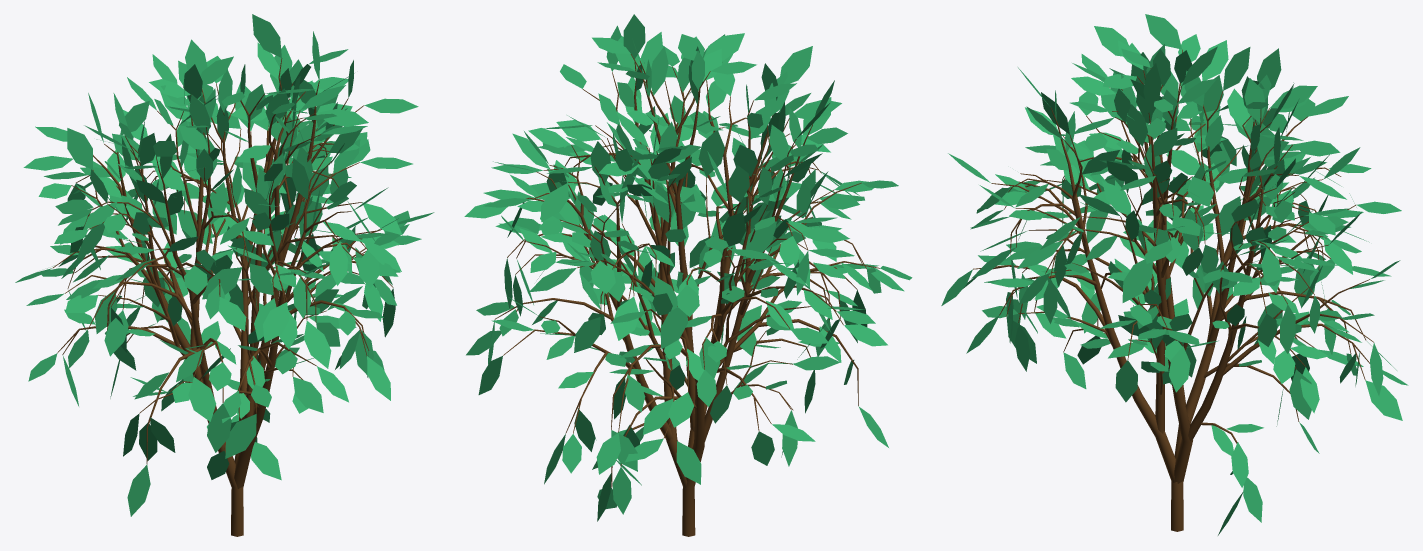
The model's file is BigPlant.fbx.
3 views of the same model, side by side, from view 1: azimuth 30°, elevation 25°; view 2: azimuth 150°, elevation 25°; view 3: azimuth 270°, elevation 25° (orthographic).
Parts seen in each view (by area): view 1: leaves, tree; view 2: leaves, tree; view 3: leaves, tree.
Boxes of the visible parts, x1,y1,x2,y2 form: leaves: (15,14,434,516); tree: (53,58,393,536); leaves: (464,14,912,521); tree: (494,54,879,536); leaves: (941,14,1408,535); tree: (973,49,1373,531).
Bounding box in the file's own units: 188 × 235 × 199.
